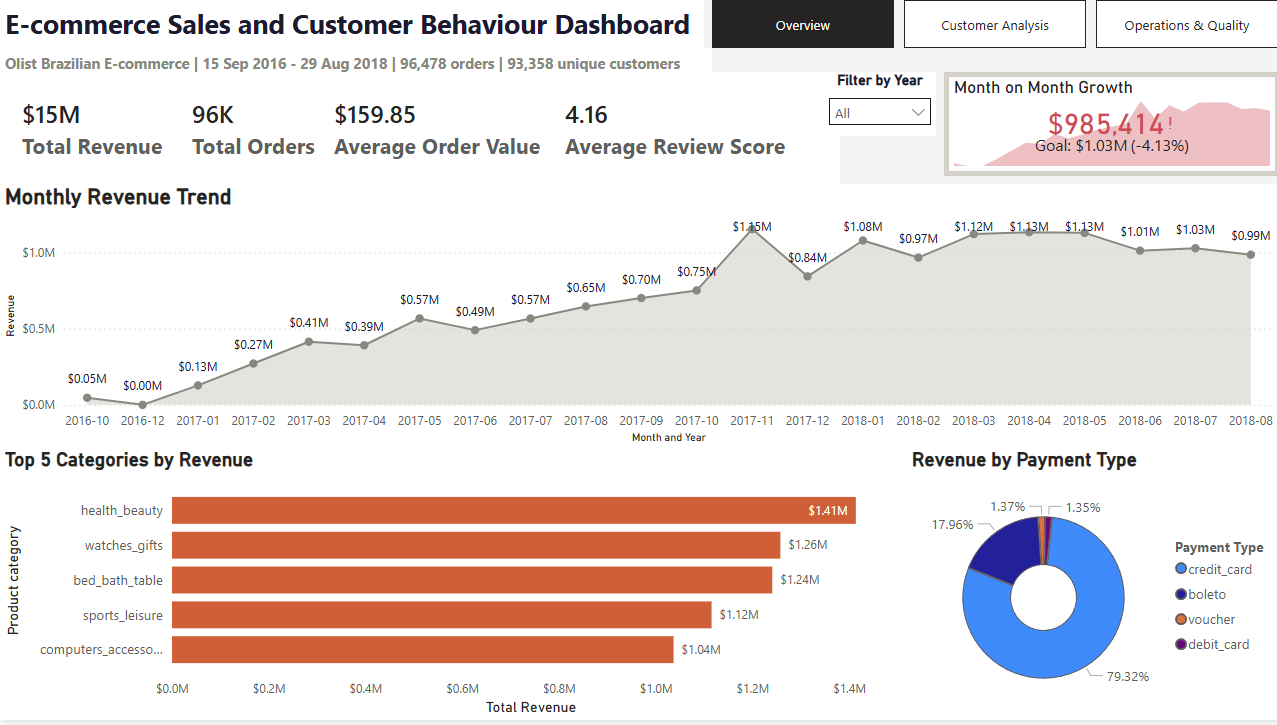

Layout of this report page (visuals, bound fields, positions):
{"tool":"powerbi","page":{"name":"Overview","canvas":[1280,720],"ordinal":0},"visuals":[{"type":"textbox","box":[0,0,704,48],"z":0},{"type":"textbox","box":[0,48,712,32],"z":1000},{"type":"cardVisual","fields":{"Data":["_Measures.Total Revenue"]},"box":[0,72,208,112],"z":2000},{"type":"cardVisual","fields":{"Data":["_Measures.Total Orders"]},"box":[168,72,192,112],"z":3000},{"type":"cardVisual","fields":{"Data":["_Measures.Avg Order Value"]},"box":[320,72,256,112],"z":4000},{"type":"cardVisual","fields":{"Data":["_Measures.Avg Review Score"]},"box":[552,72,288,112],"z":5000},{"type":"lineChart","title":"Monthly Revenue Trend","fields":{"Category":["DateTable.YearMonth"],"Y":["_Measures.Total Revenue"]},"box":[0,184,1280,264],"z":6000},{"type":"clusteredBarChart","title":"Top 5 Categories by Revenue","fields":{"Category":["fact_orders.category_en"],"Y":["_Measures.Total Revenue"]},"box":[0,448,912,272],"z":7000},{"type":"donutChart","title":"Revenue by Payment Type","fields":{"Category":["fact_orders.payment_type"],"Y":["_Measures.Total Revenue"]},"box":[912,448,368,272],"z":8000},{"type":"kpi","title":"Month on Month Growth","fields":{"Indicator":["_Measures.Total Revenue"],"Goal":["_Measures.Revenue PM"],"TrendLine":["DateTable.YearMonth"]},"box":[944,72,336,104],"z":9000},{"type":"slicer","title":"Filter by Year","fields":{"Values":["DateTable.Year"]},"box":[824,72,112,64],"z":10000},{"type":"pageNavigator","box":[712,0,568,48],"z":11000}]}

Visuals, with their boxes in screenshot pixels (x1, y1, x2, y2), scaled from the page's 1280x720 canvas onto the 1277x725 screenshot:
textbox: 0,0,702,48
textbox: 0,48,710,81
cardVisual - _Measures.Total Revenue: 0,72,208,185
cardVisual - _Measures.Total Orders: 168,72,359,185
cardVisual - _Measures.Avg Order Value: 319,72,575,185
cardVisual - _Measures.Avg Review Score: 551,72,838,185
"Monthly Revenue Trend" lineChart: 0,185,1276,451
"Top 5 Categories by Revenue" clusteredBarChart: 0,451,910,724
"Revenue by Payment Type" donutChart: 910,451,1276,724
"Month on Month Growth" kpi: 942,72,1276,177
"Filter by Year" slicer: 822,72,934,137
pageNavigator: 710,0,1276,48
